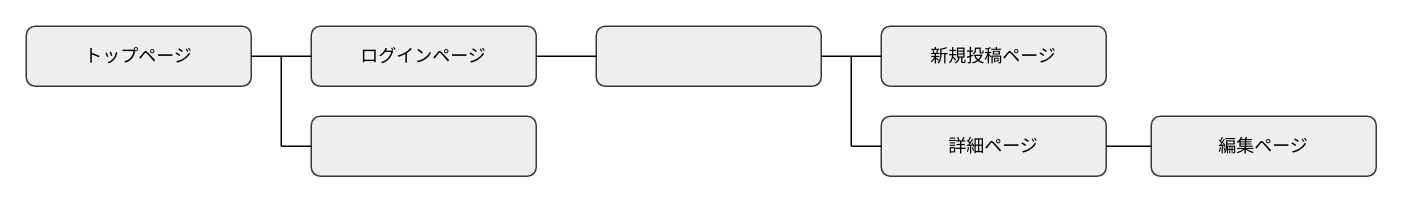
This 1403x203 diagram has some shape labels left out. Here are the shapes that lost their labels. From the top down, the centre of each, then its label:
(708,55): 一覧ページ
(423,145): 新規登録ページ
